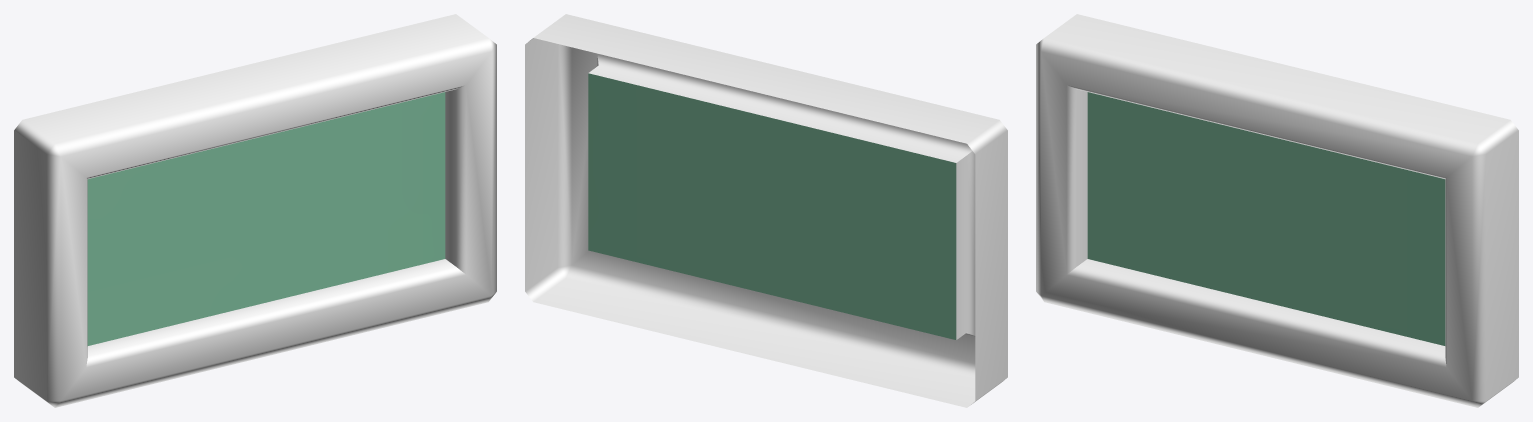
Rendered from Decor_Khungtranh_02.fbx.
The picture shows the model from 3 angles, left to right: view 1: azimuth 30°, elevation 25°; view 2: azimuth 150°, elevation 25°; view 3: azimuth 330°, elevation 25°; orthographic projection.
Parts seen in each view (by area): view 1: Decor_Khungtranh_02; view 2: Decor_Khungtranh_02; view 3: Decor_Khungtranh_02.
Boxes of the visible parts, x1,y1,x2,y2 form: Decor_Khungtranh_02: [14, 14, 496, 407]; Decor_Khungtranh_02: [525, 14, 1007, 407]; Decor_Khungtranh_02: [1036, 14, 1518, 407].
Size of the model in its own units: 100 by 56.32 by 14.38.
